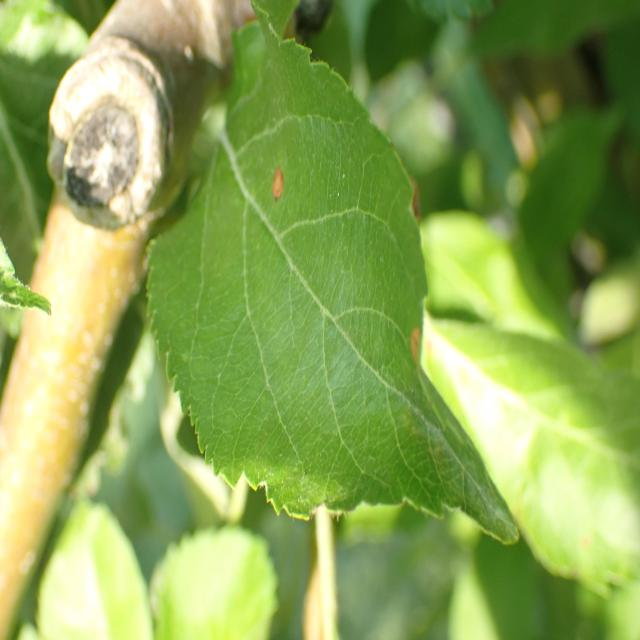frog-eye-leaf-spot: (142, 6, 521, 553)
